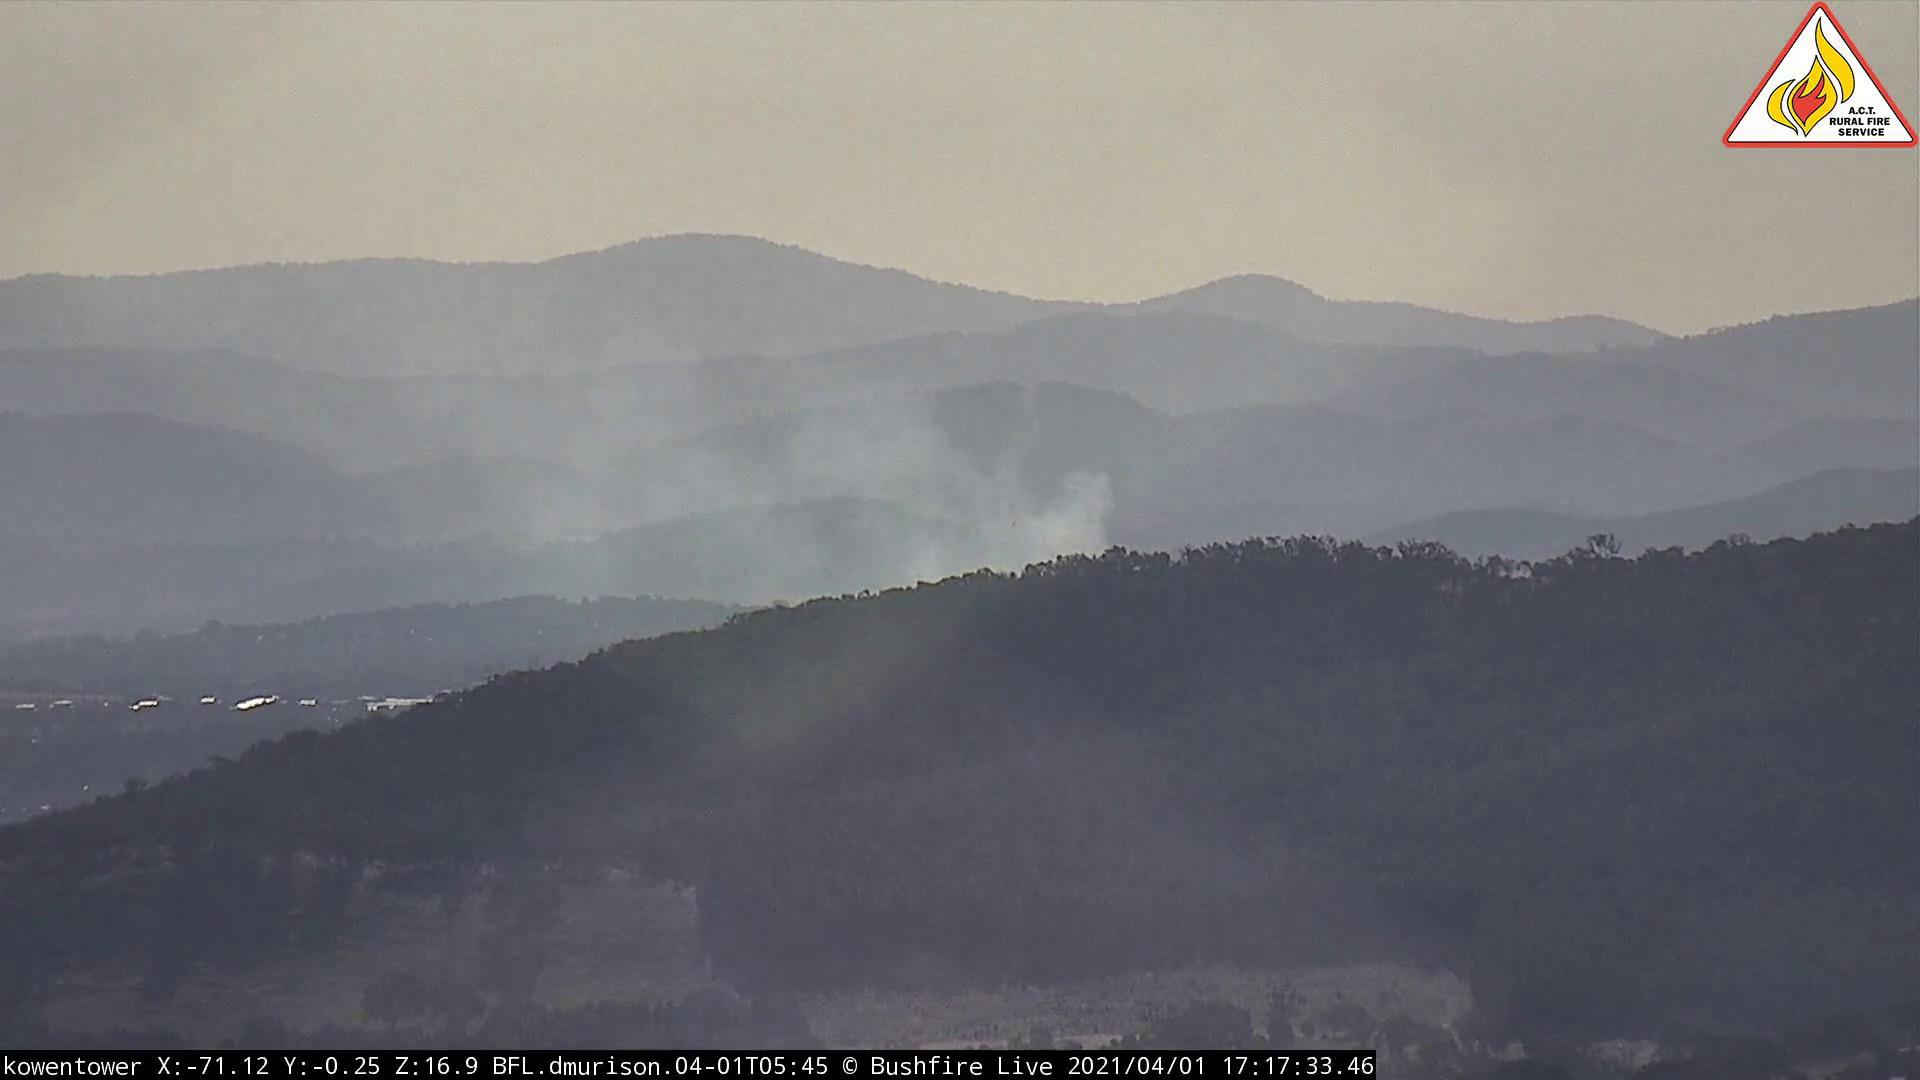Smoke: (458, 287, 1160, 665)
